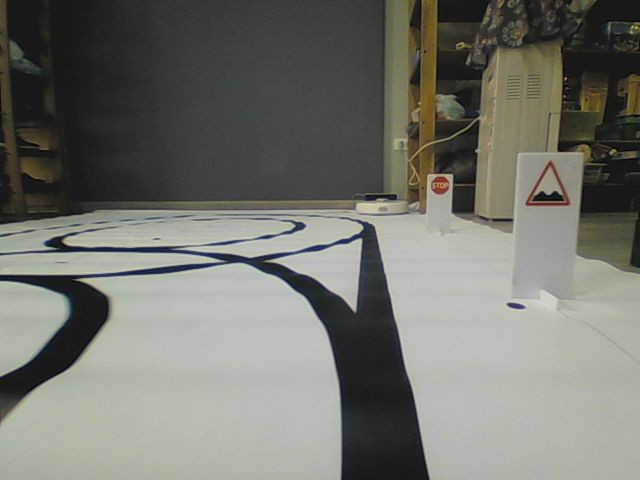Nerov: (524, 158, 574, 206)
Stop: (430, 176, 450, 195)
